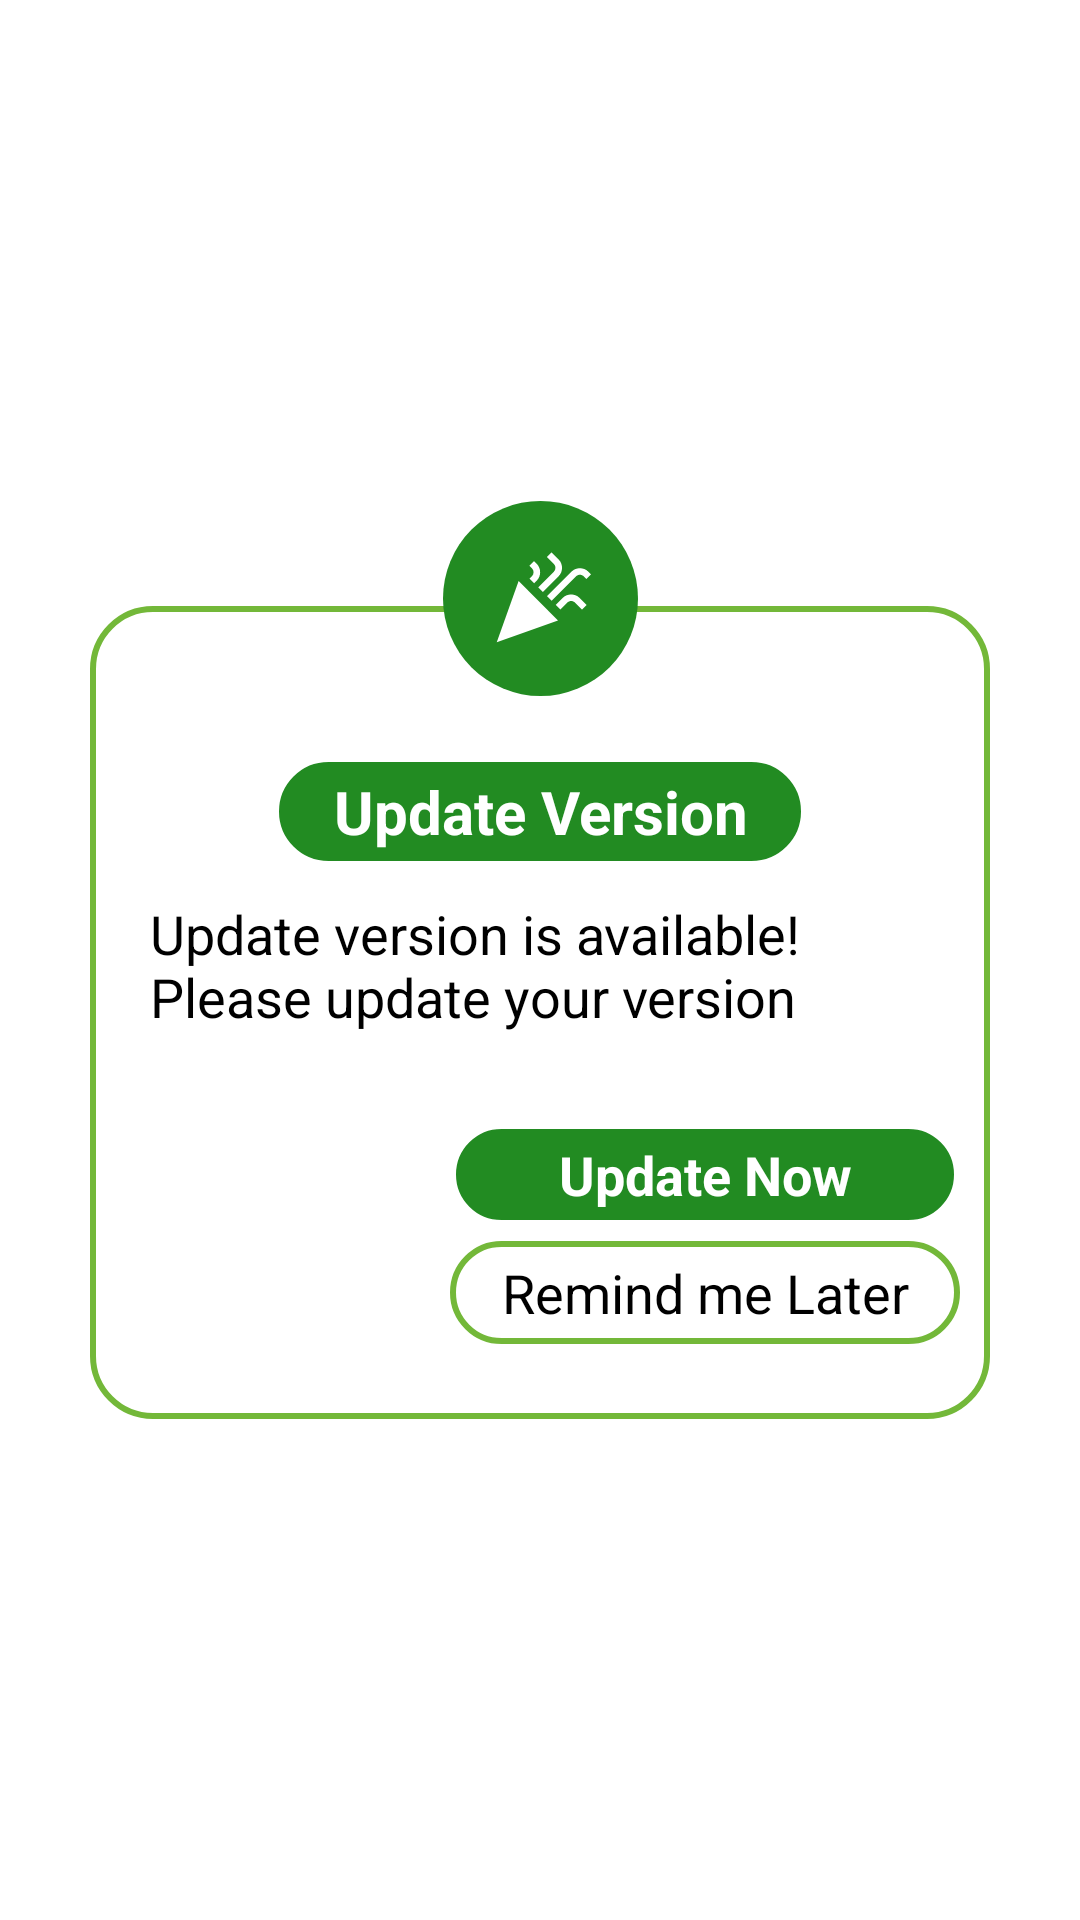

Named icons in this screenshot (1080×1920) and their centers, [x,y]:
celebration: [540,598]
